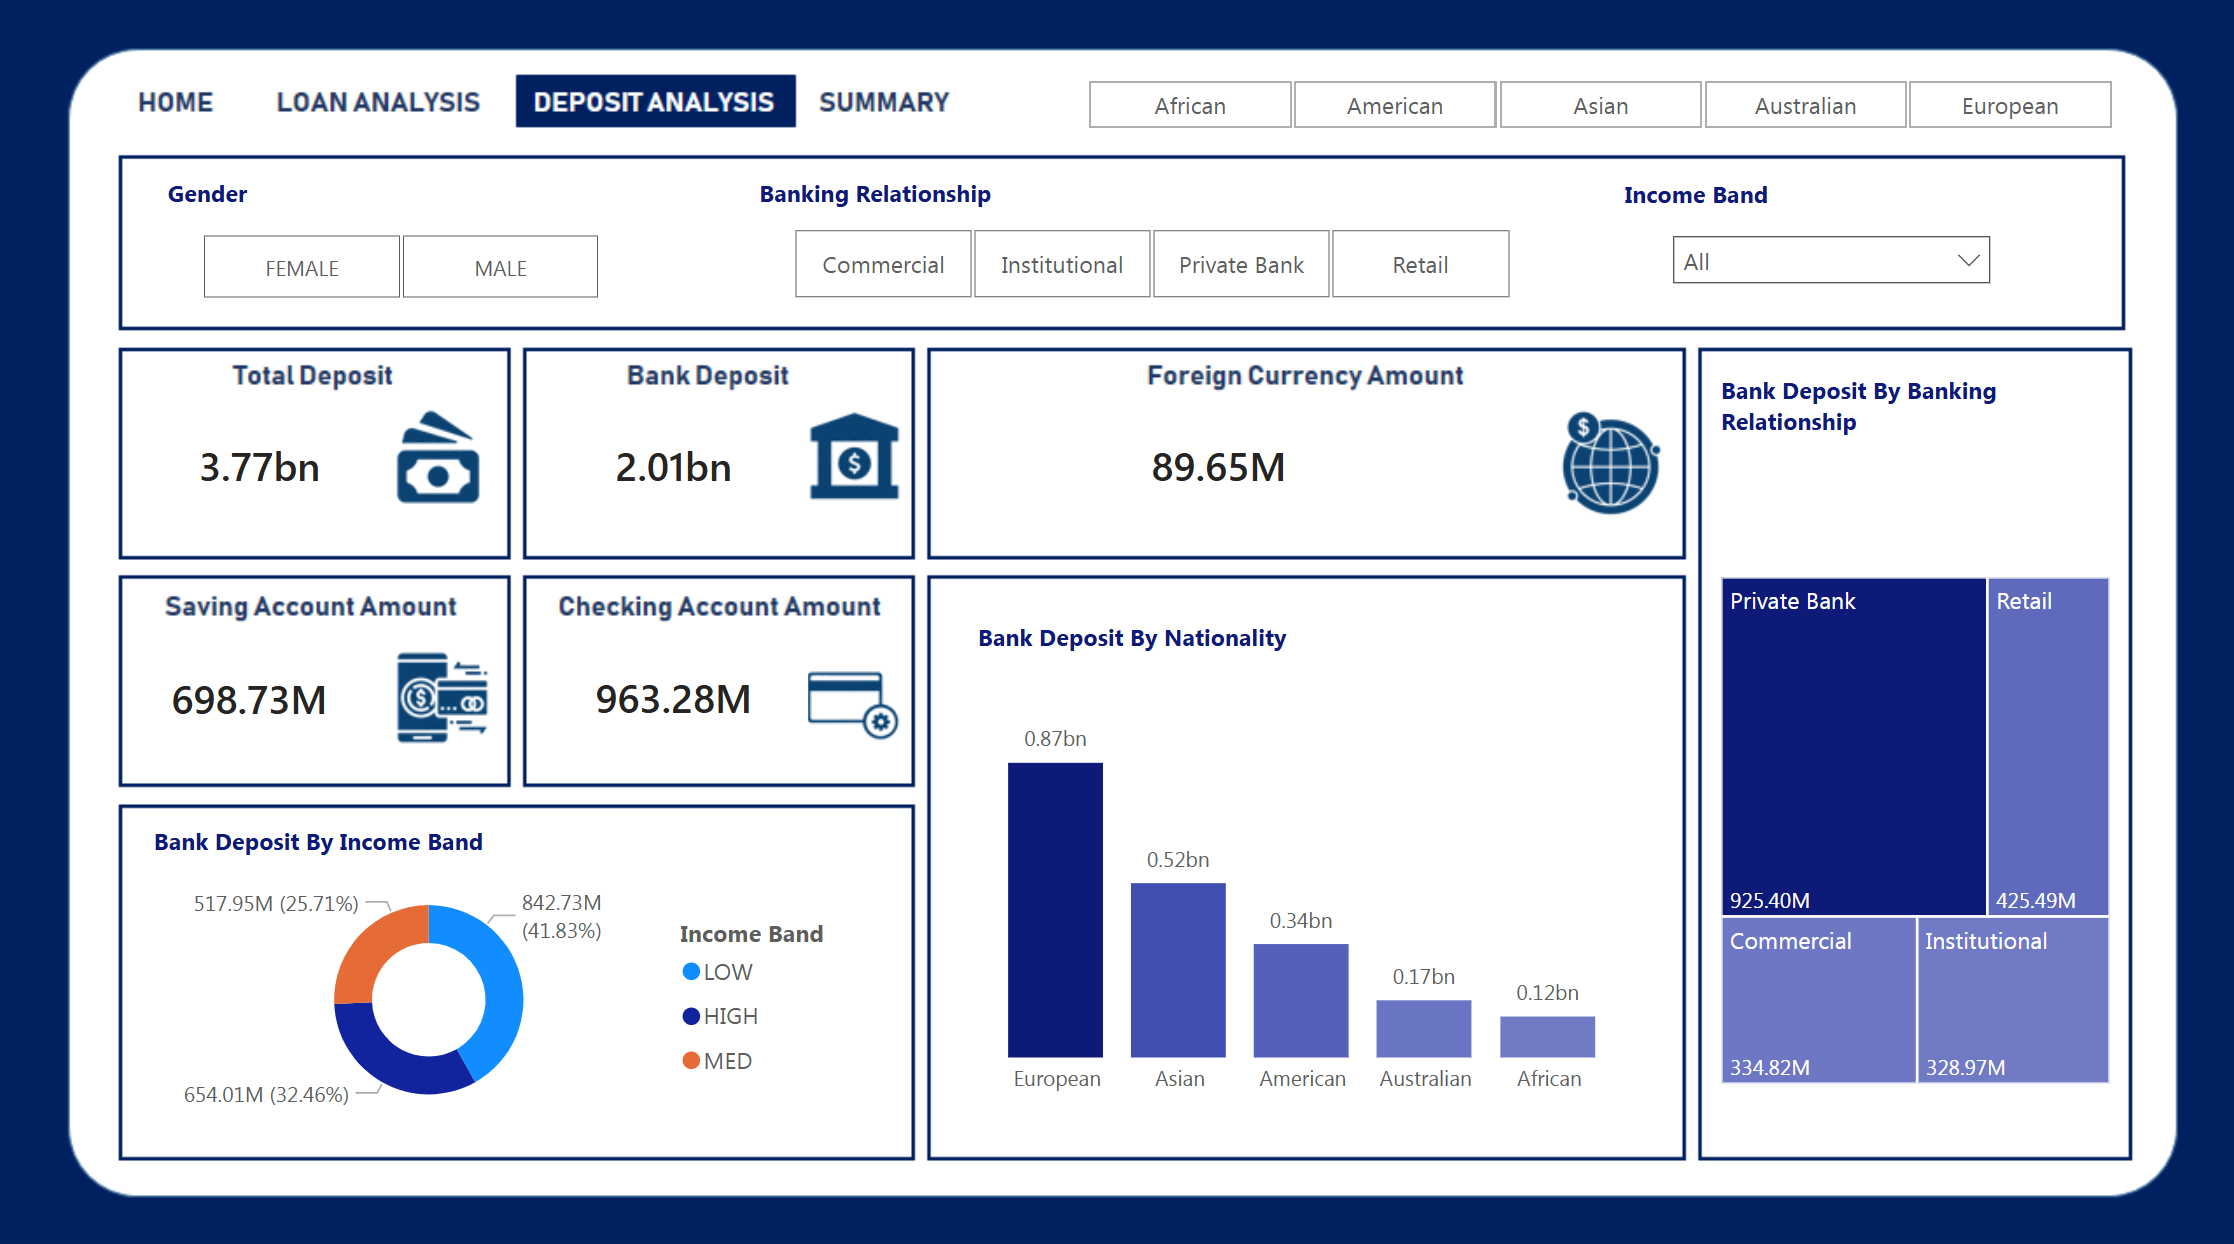

Layout of this report page (visuals, bound fields, positions):
{"tool":"powerbi","page":{"name":"Deposit Analysis","canvas":[1280,720],"ordinal":2},"visuals":[{"type":"actionButton","box":[47,40,100,40],"z":0},{"type":"actionButton","box":[151,42,129,34],"z":1000},{"type":"actionButton","box":[460,40,100,40],"z":3000},{"type":"cardVisual","fields":{"Data":["Sum(Banking_Clients.Bank Deposits)"]},"box":[304,234,164,65],"z":4000},{"type":"cardVisual","fields":{"Data":["Sum(Banking_Clients.Saving Accounts)"]},"box":[70,368,159,64],"z":5000},{"type":"cardVisual","fields":{"Data":["Sum(Banking_Clients.Checking Accounts)"]},"box":[304,367,164,65],"z":6000},{"type":"cardVisual","fields":{"Data":["Banking_Clients.Total Deposit"]},"box":[70,234,159,65],"z":7000},{"type":"donutChart","fields":{"Category":["Banking_Clients.Income Band"],"Y":["Sum(Banking_Clients.Bank Deposits)"]},"box":[97,499,398,150],"z":8000},{"type":"treemap","fields":{"Group":["Banking_Clients.BRId"],"Values":["Sum(Banking_Clients.Bank Deposits)"]},"box":[979,327,232,300],"z":9000},{"type":"columnChart","fields":{"Category":["Banking_Clients.Nationality"],"Y":["Sum(Banking_Clients.Bank Deposits)"]},"box":[544,400,403,237],"z":10000},{"type":"slicer","fields":{"Values":["Banking_Clients.Nationality"]},"box":[598,42,633,40],"z":12000},{"type":"slicer","fields":{"Values":["Banking_Clients.GenderId"]},"box":[92,130,275,49],"z":13000},{"type":"slicer","fields":{"Values":["Banking_Clients.BRId"]},"box":[430,127,457,52],"z":14000},{"type":"slicer","fields":{"Values":["Banking_Clients.Income Band"]},"box":[947,127,201,44],"z":15000},{"type":"cardVisual","fields":{"Data":["Sum(Banking_Clients.Foreign Currency Account)"]},"box":[560,234,275,65],"z":15001},{"type":"textbox","box":[92,98,67,32],"z":15002},{"type":"textbox","box":[430,98,148,33],"z":15003},{"type":"textbox","box":[924,99,110,32],"z":15004},{"type":"textbox","box":[84,469,212,30],"z":15005},{"type":"textbox","box":[555,352,208,33],"z":15006},{"type":"textbox","box":[979,211,232,56],"z":15007}]}

Visuals, with their boxes in screenshot pixels (x1, y1, x2, y2), scaled from the page's 1280x720 canvas onto the 2234x1244 screenshot:
actionButton: 82,69,257,138
actionButton: 264,73,489,131
actionButton: 803,69,977,138
cardVisual - Sum(Banking_Clients.Bank Deposits): 531,404,817,517
cardVisual - Sum(Banking_Clients.Saving Accounts): 122,636,400,746
cardVisual - Sum(Banking_Clients.Checking Accounts): 531,634,817,746
cardVisual - Banking_Clients.Total Deposit: 122,404,400,517
donutChart - Banking_Clients.Income Band x Sum(Banking_Clients.Bank Deposits): 169,862,864,1121
treemap - Banking_Clients.BRId x Sum(Banking_Clients.Bank Deposits): 1709,565,2114,1083
columnChart - Banking_Clients.Nationality x Sum(Banking_Clients.Bank Deposits): 949,691,1653,1101
slicer - Banking_Clients.Nationality: 1044,73,2148,142
slicer - Banking_Clients.GenderId: 161,225,641,309
slicer - Banking_Clients.BRId: 750,219,1548,309
slicer - Banking_Clients.Income Band: 1653,219,2004,295
cardVisual - Sum(Banking_Clients.Foreign Currency Account): 977,404,1457,517
textbox: 161,169,278,225
textbox: 750,169,1009,226
textbox: 1613,171,1805,226
textbox: 147,810,517,862
textbox: 969,608,1332,665
textbox: 1709,365,2114,461
